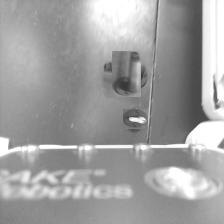Door Handle: (107, 55, 145, 94)
Lock: (124, 108, 146, 130)
